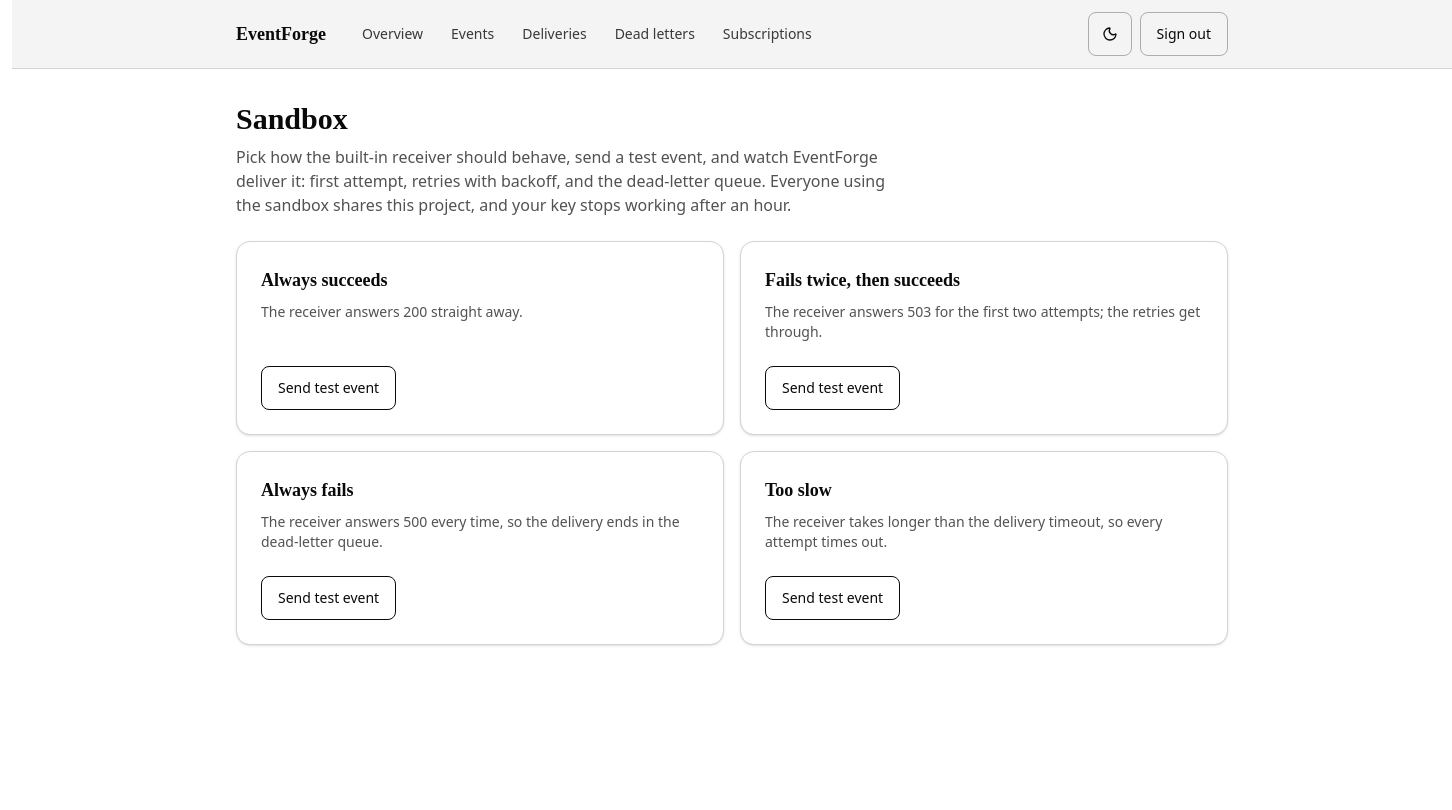
Scenario: Sandbox page › sends the chosen scenario with the key and shows the run
Step 1. Click the button with aria-label "Send test event: Fails twice, then succeeds" → (833, 388), box x1=765 y1=366 x2=900 y2=410
(page scrolled)
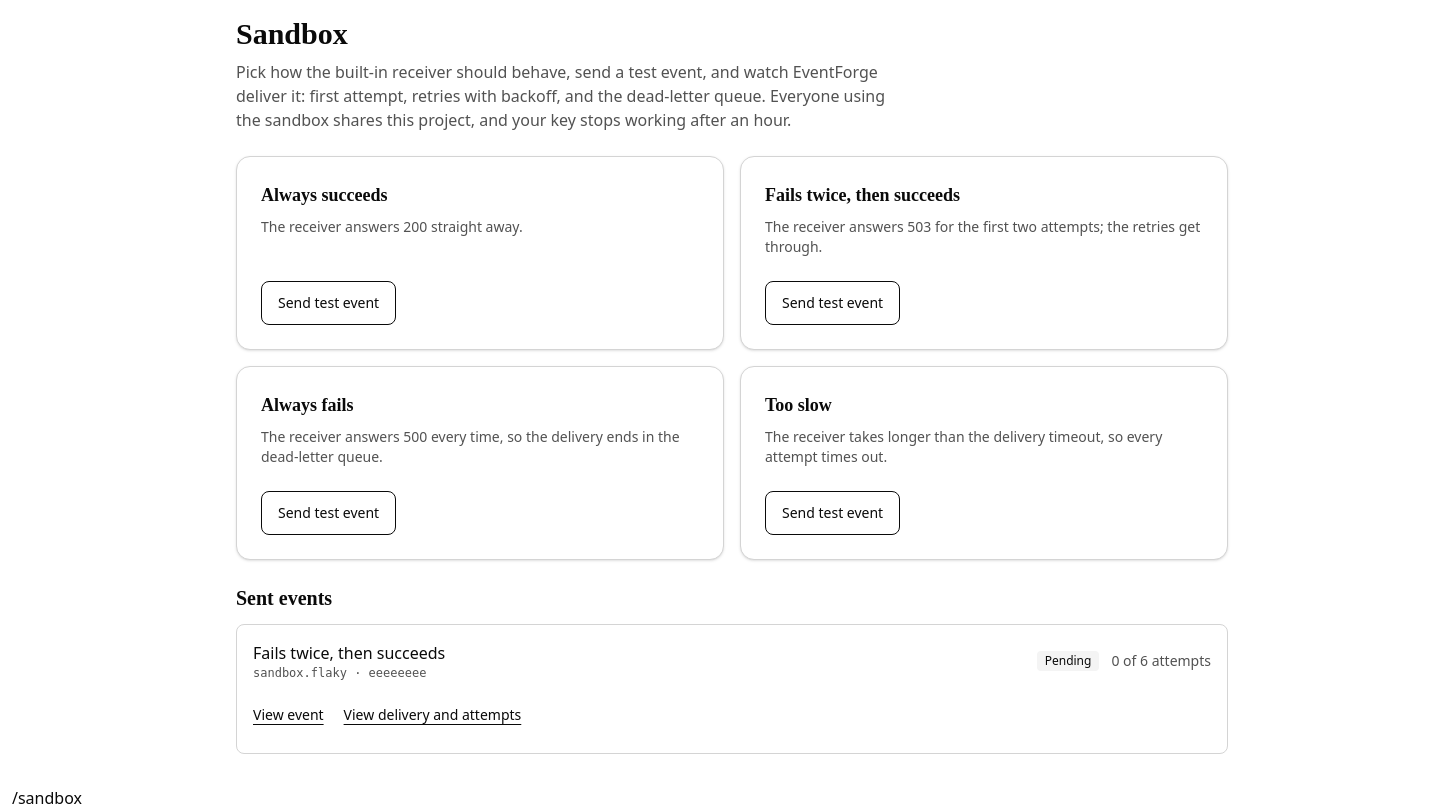
Result: the text "sandbox.flaky · eeeeeeee" is shown at x1=253 y1=665 x2=445 y2=681
